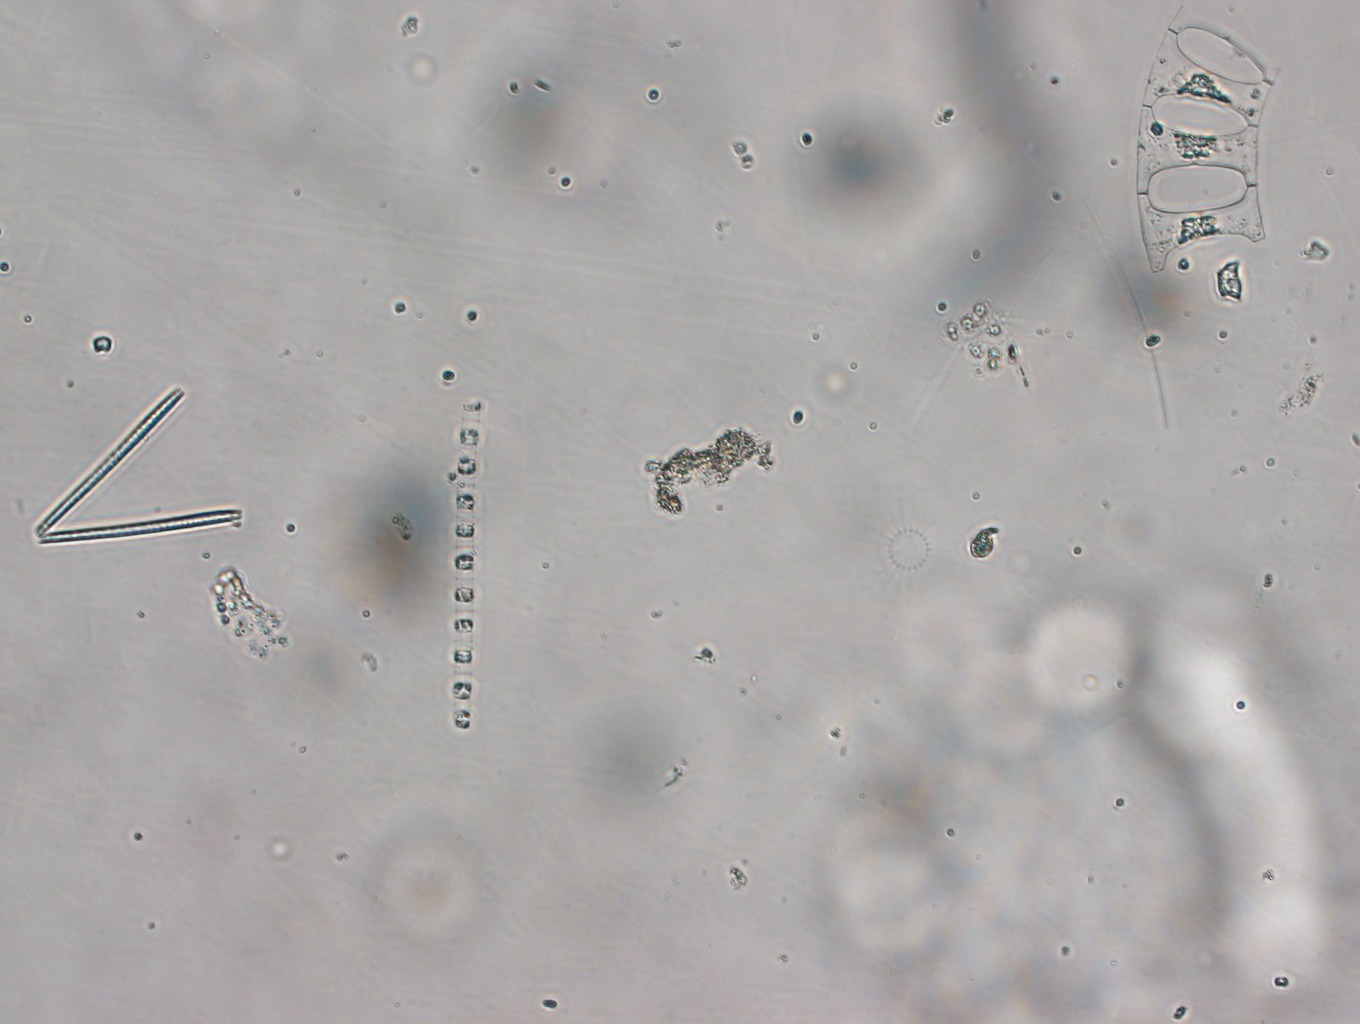eucampia: (1129, 8, 1286, 280)
skeletonema: (413, 389, 501, 737)
thalassionema nitzschioides: (25, 375, 250, 552)
